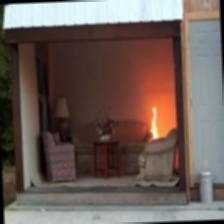fire: (143, 106, 166, 138)
